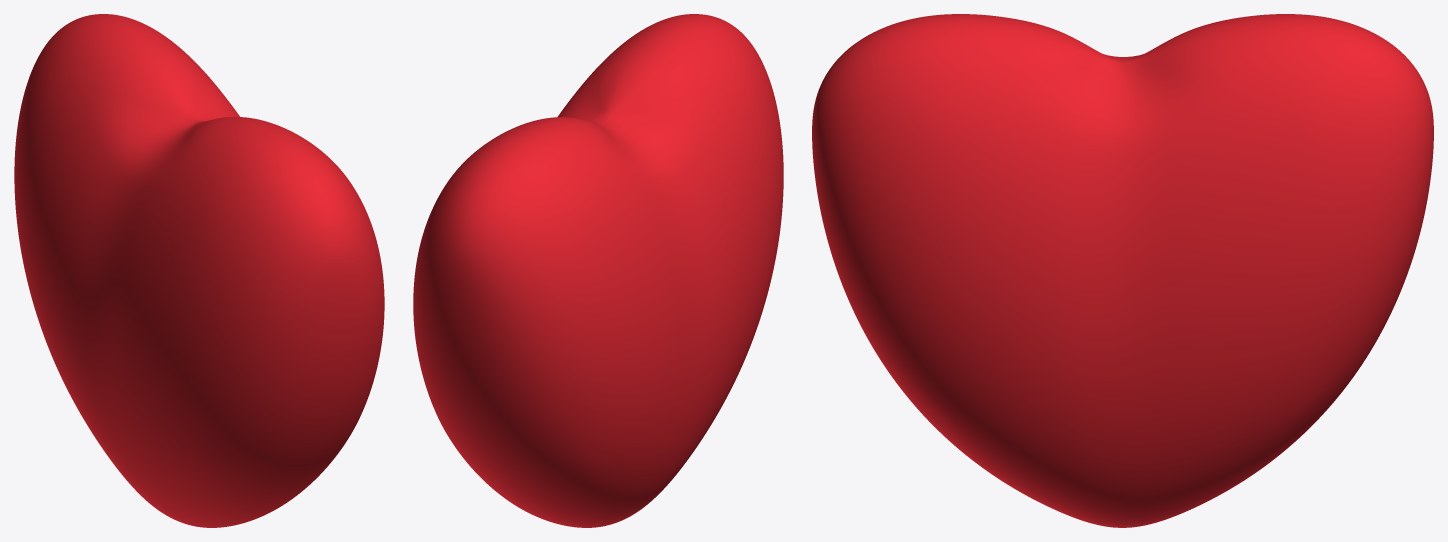
File: healthpickup.fbx
3 renders of one model, left to right at view 1: azimuth 30°, elevation 25°; view 2: azimuth 150°, elevation 25°; view 3: azimuth 270°, elevation 25°, orthographic. The views are drawn at different scales.
Visible parts, largest first — view 1: Cube; view 2: Cube; view 3: Cube.
Part boxes in pixels (x1,y1,x2,y2): Cube: (14,14,384,527); Cube: (413,14,783,527); Cube: (812,14,1433,527).
Bounding box in the file's own units: 86.25 × 174 × 197.
